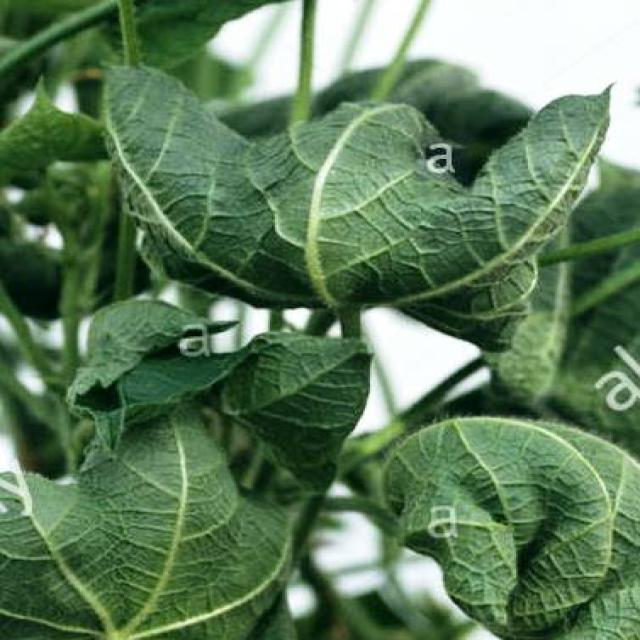Leaf Curl Virus: (58, 103, 614, 538)
